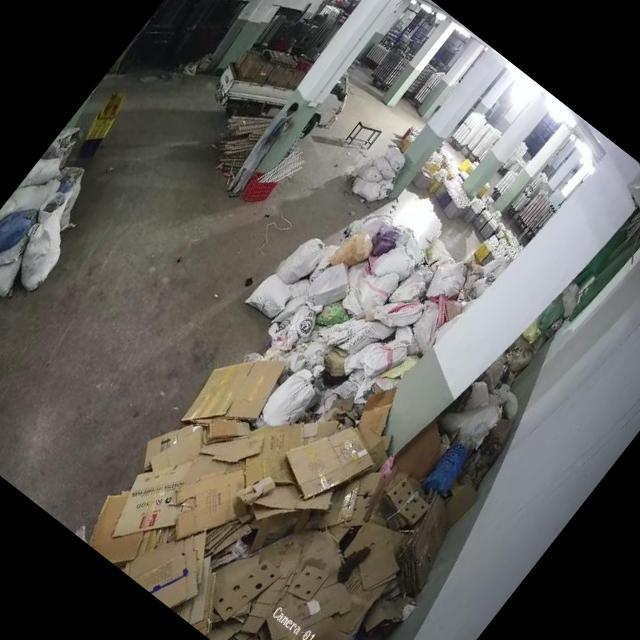person: (218, 98, 308, 203)
